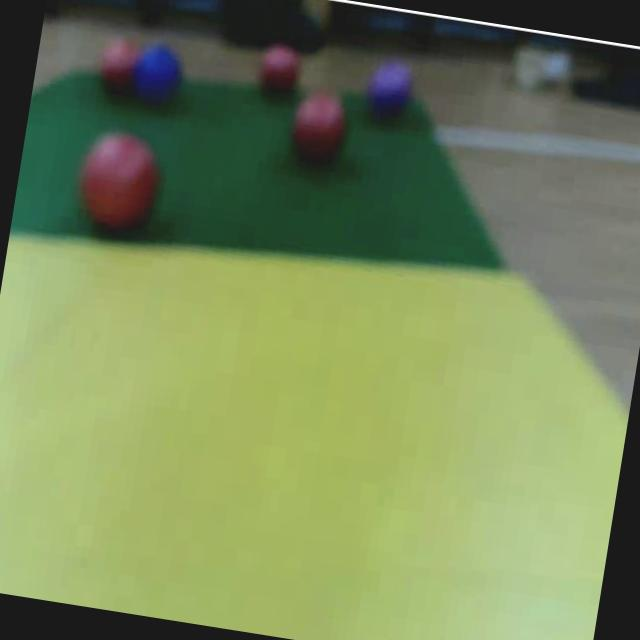blue_ball: (130, 38, 191, 116)
purple_ball: (360, 58, 422, 128)
red_ball: (68, 126, 174, 245), (282, 90, 356, 177), (254, 41, 306, 106), (94, 37, 141, 107)
